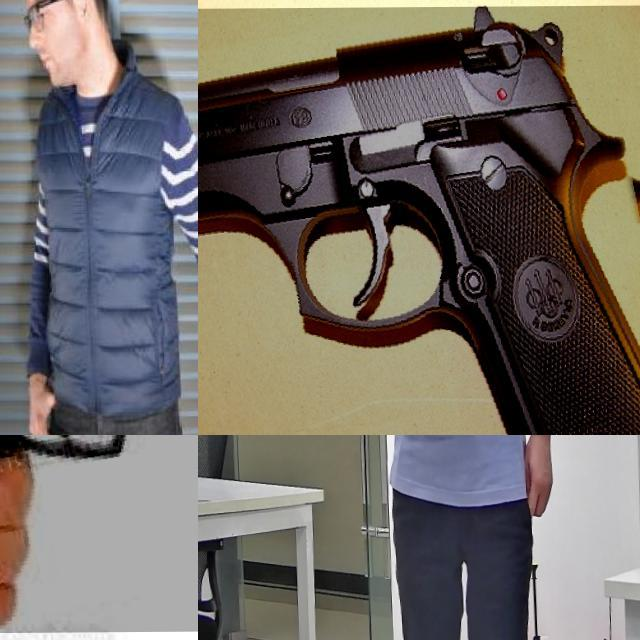gun-knife-thesis - v11 Yolov5 augmented: (198, 6, 640, 435), (0, 435, 198, 640), (389, 435, 482, 501)
